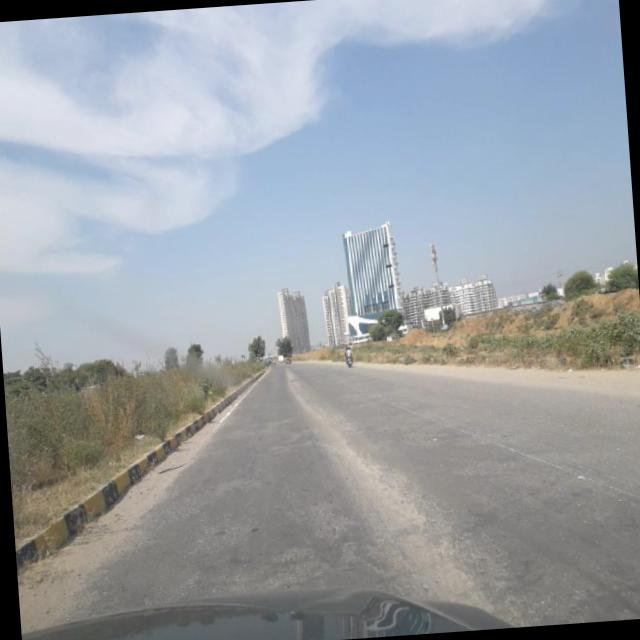crack: (308, 397, 490, 589)
